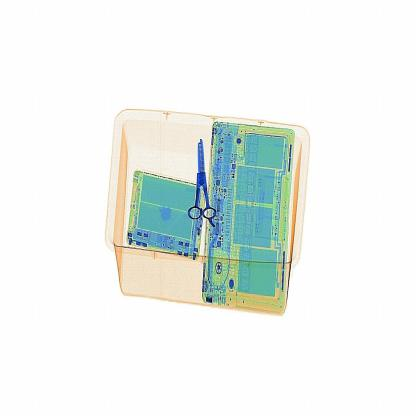gun: (185, 130, 229, 232)
